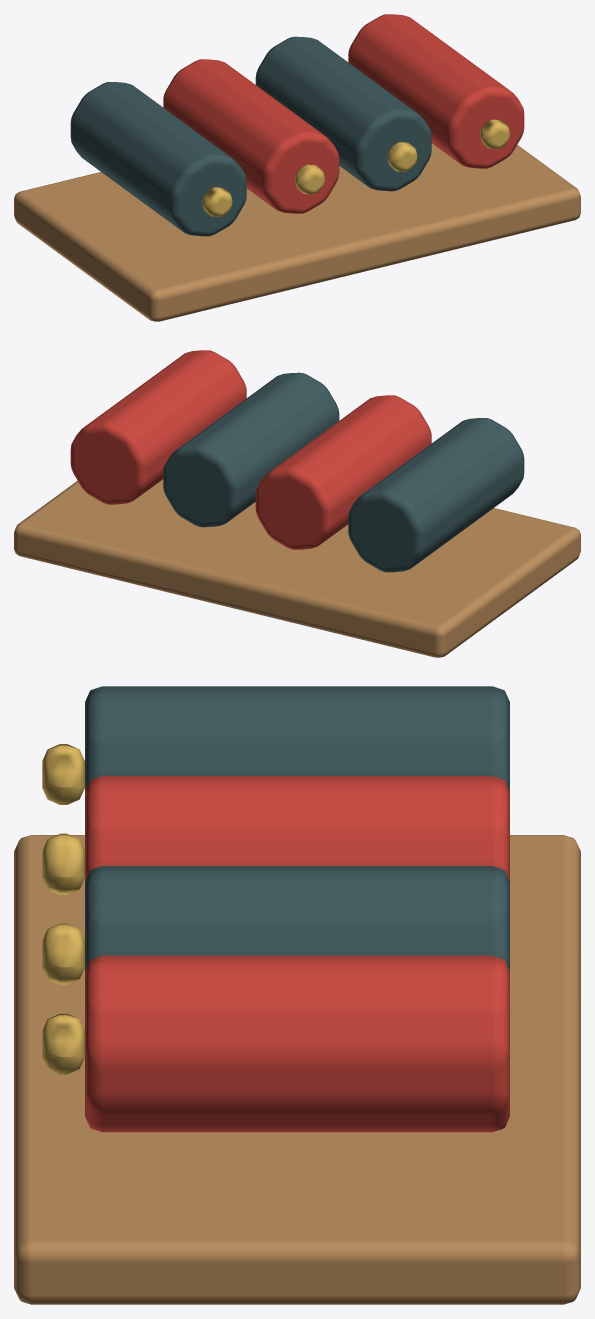
Rendered from SM_PRP_Pilhas.fbx.
3 renders of one model, top to bottom at view 1: azimuth 30°, elevation 25°; view 2: azimuth 150°, elevation 25°; view 3: azimuth 270°, elevation 25°, orthographic. The views are drawn at different scales.
Visible parts, largest first — view 1: SM_PRP_Pilhas; view 2: SM_PRP_Pilhas; view 3: SM_PRP_Pilhas.
Part boxes in pixels (x1,y1,x2,y2): SM_PRP_Pilhas: (14, 14, 580, 321); SM_PRP_Pilhas: (14, 350, 580, 657); SM_PRP_Pilhas: (14, 686, 580, 1304).
Size of the model in its own units: 0.14 by 0.0425 by 0.08.
